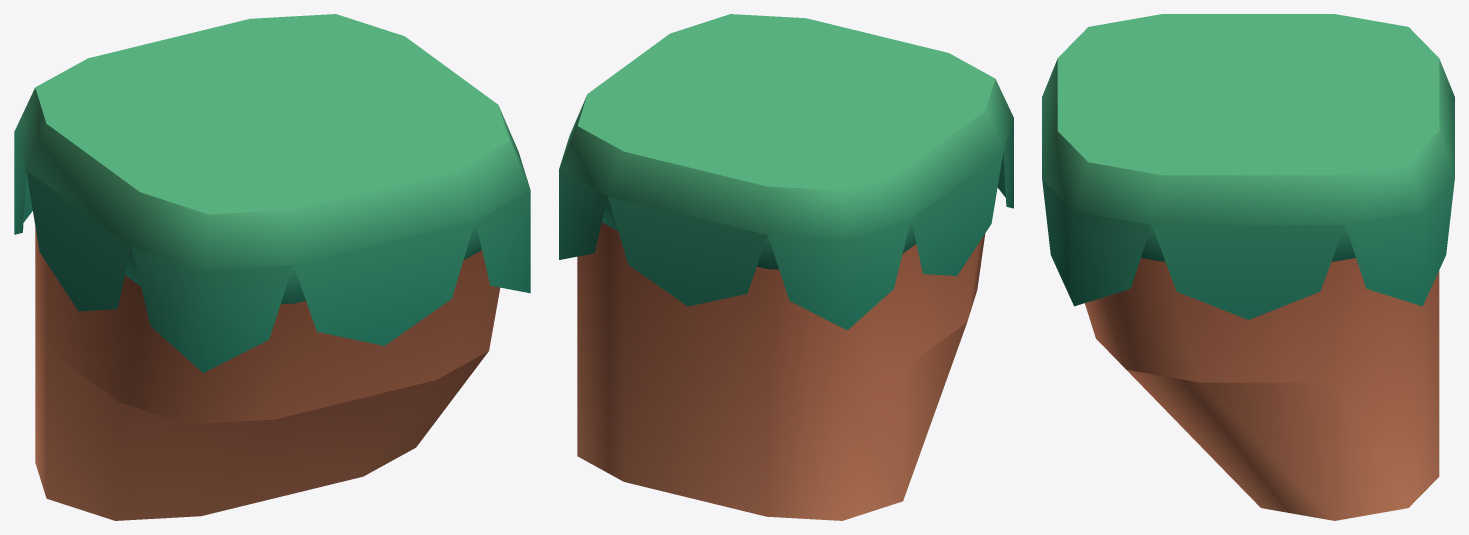
File: block-grass-overhang-edge.glb
3 renders of one model, left to right at view 1: azimuth 30°, elevation 25°; view 2: azimuth 150°, elevation 25°; view 3: azimuth 270°, elevation 25°, orthographic. The views are drawn at different scales.
Visible parts, largest first — view 1: block-grass-overhang-edge; view 2: block-grass-overhang-edge; view 3: block-grass-overhang-edge.
Boxes of the visible parts, <box> form: block-grass-overhang-edge: <box>14,14,530,520</box>; block-grass-overhang-edge: <box>559,14,1013,520</box>; block-grass-overhang-edge: <box>1042,14,1454,520</box>.
Size of the model in its own units: 1.08 by 1 by 1.08.
1 material, 1 textured.
